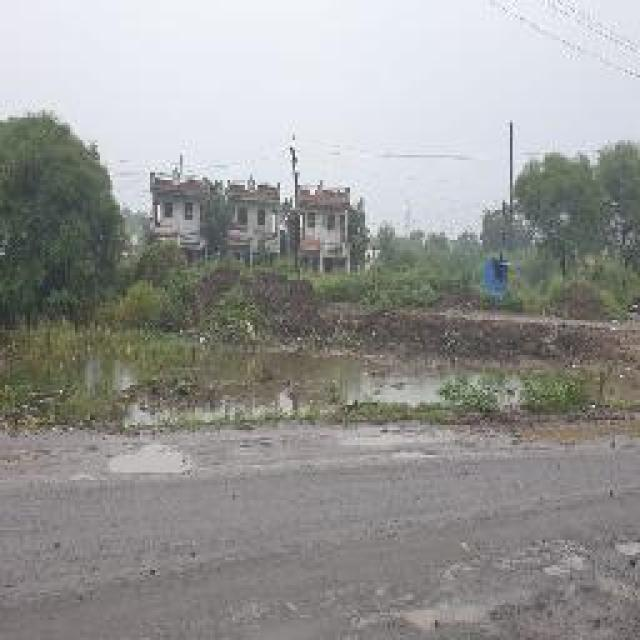stagnation: (100, 433, 199, 486)
